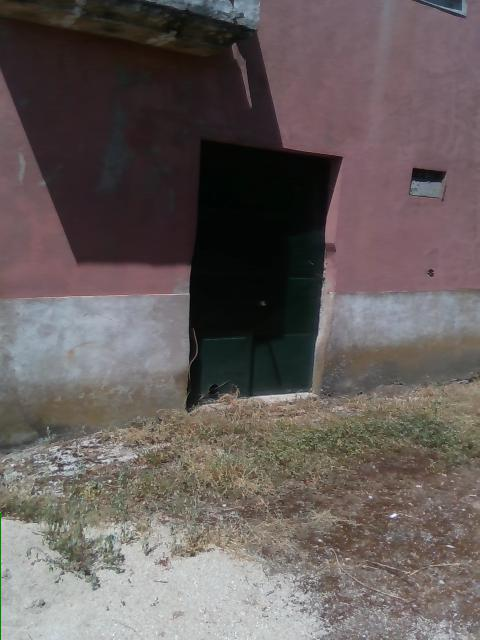door: (183, 139, 342, 404)
